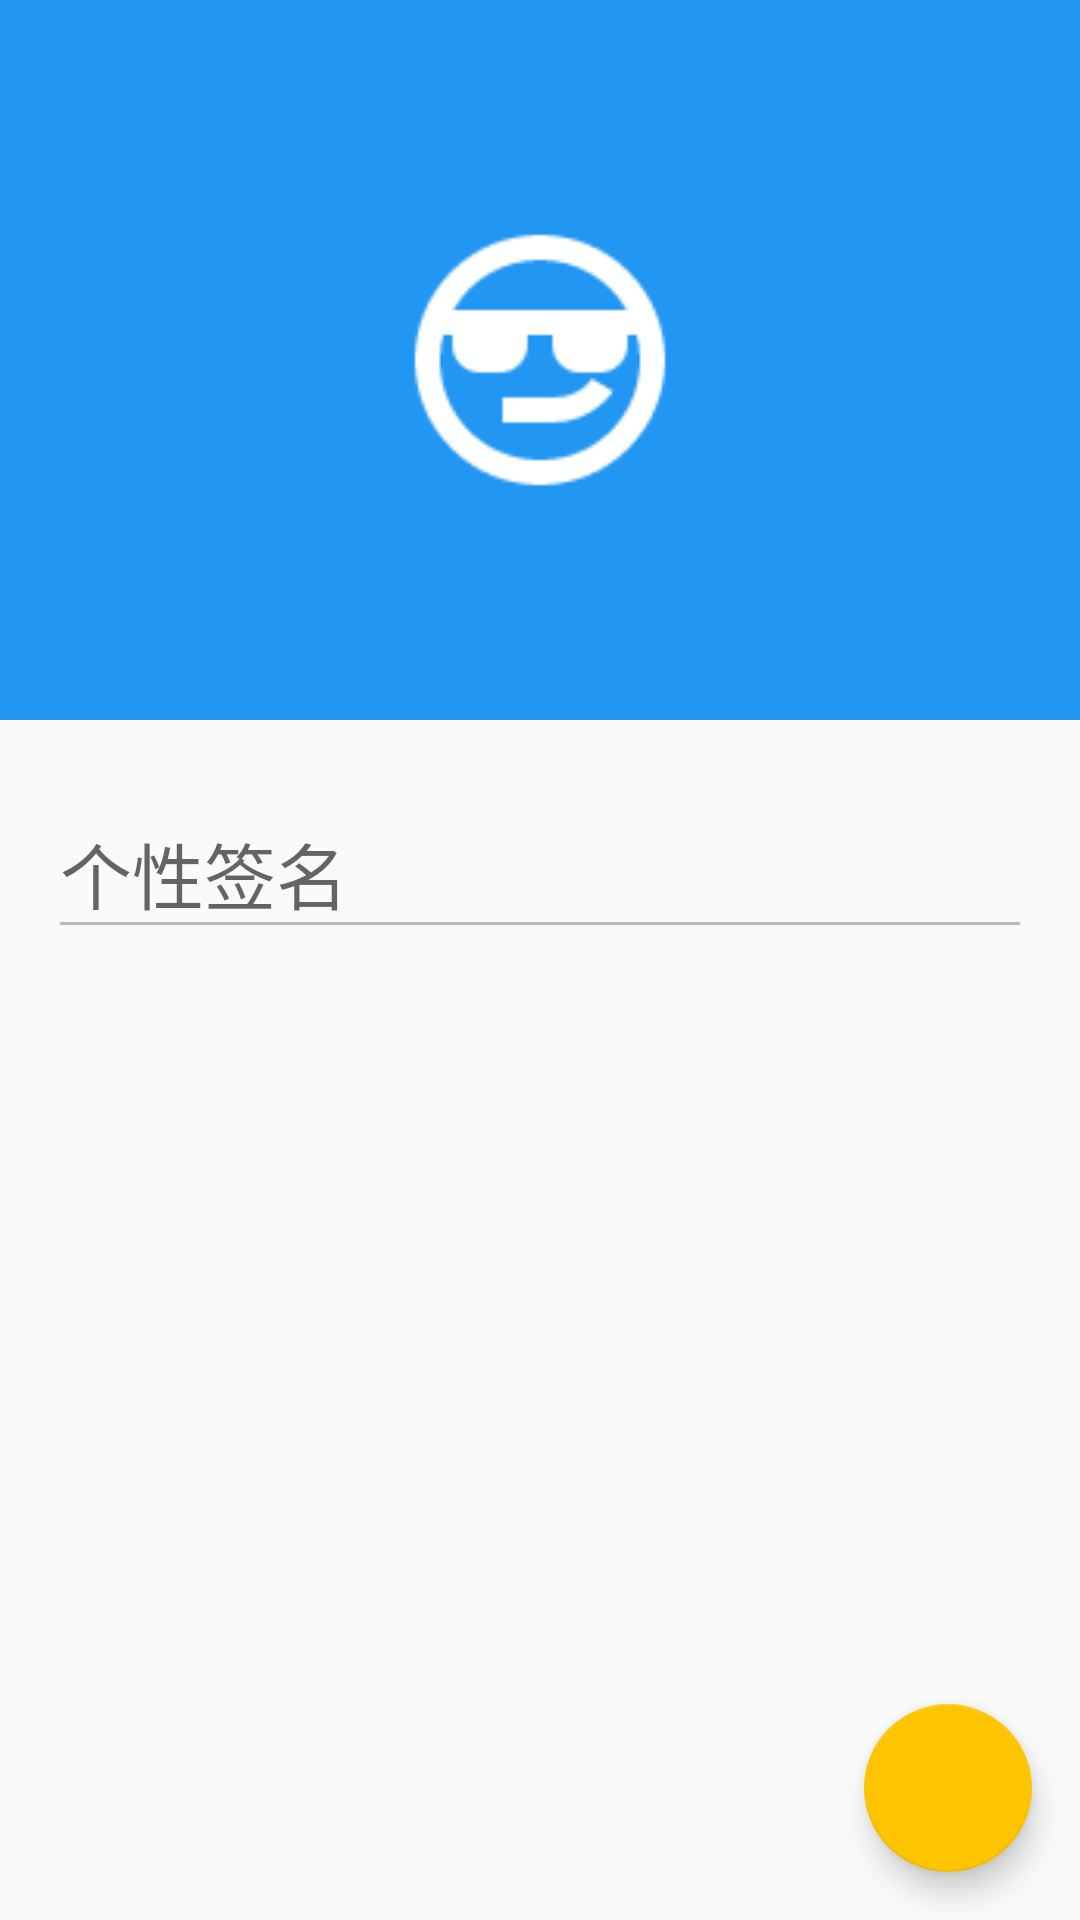

Icons on this 1080px x 1920px Android screen, each with the point to tap as (x=x, y=y):
cool: (x=540, y=360)
